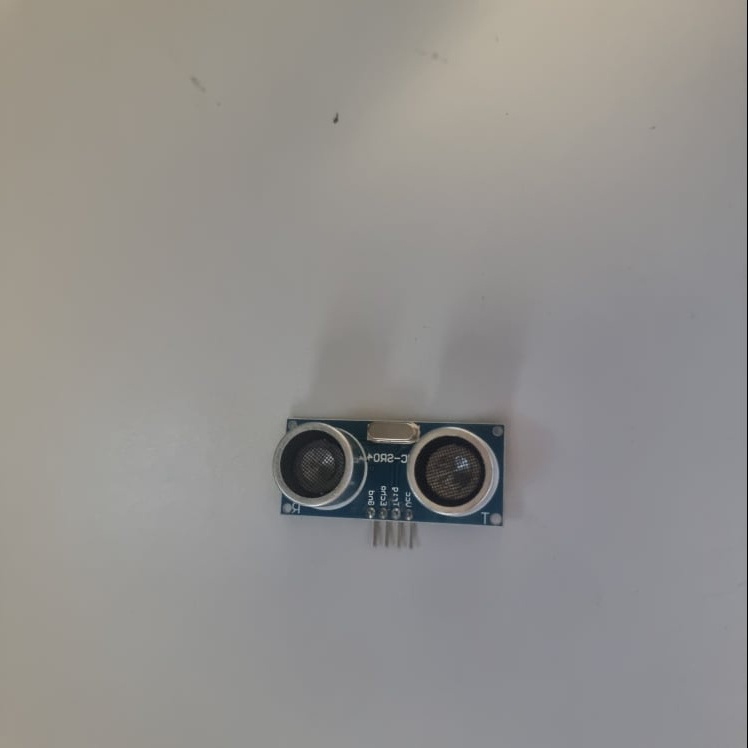SENSOR: (276, 418, 505, 531)
